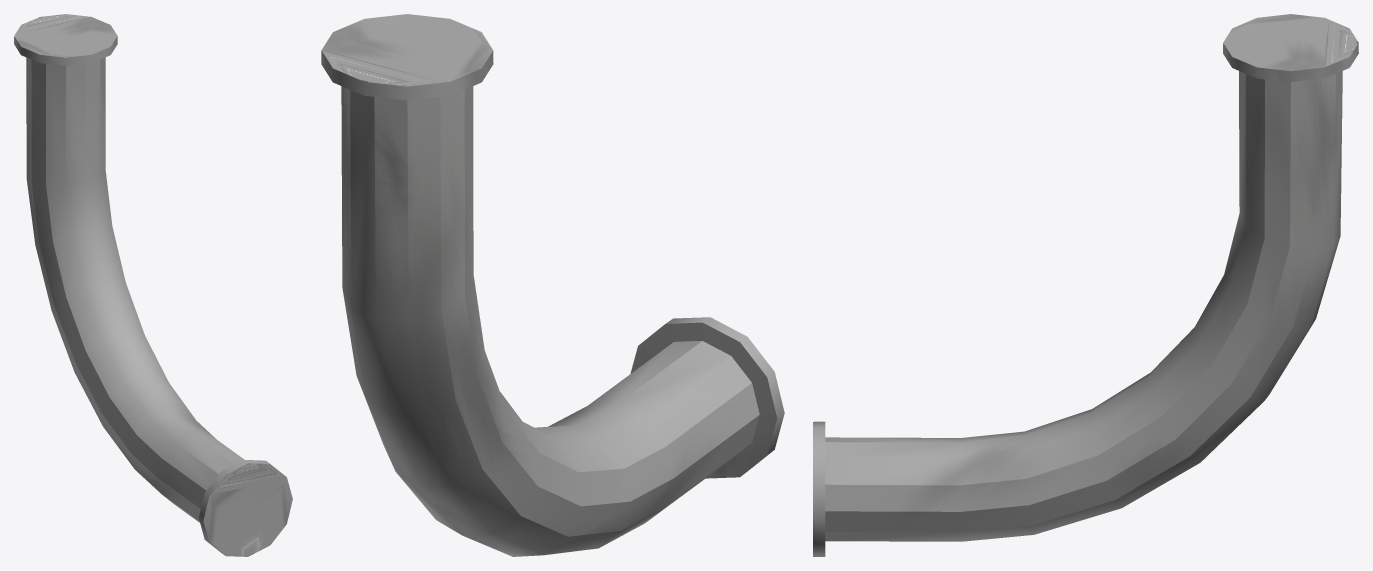
The model's file is Finailized_curvedPipeFull.fbx.
The picture shows the model from 3 angles, left to right: view 1: azimuth 30°, elevation 25°; view 2: azimuth 150°, elevation 25°; view 3: azimuth 270°, elevation 25°; orthographic projection. The views are drawn at different scales.
Visible parts, largest first — view 1: pipe_curved; view 2: pipe_curved; view 3: pipe_curved.
Boxes of the visible parts, box(x1,y1,x2,y2) form: pipe_curved: box(14, 14, 292, 556); pipe_curved: box(321, 14, 784, 556); pipe_curved: box(813, 14, 1358, 556).
Size of the model in its own units: 0.5107 by 2.11 by 2.05.
